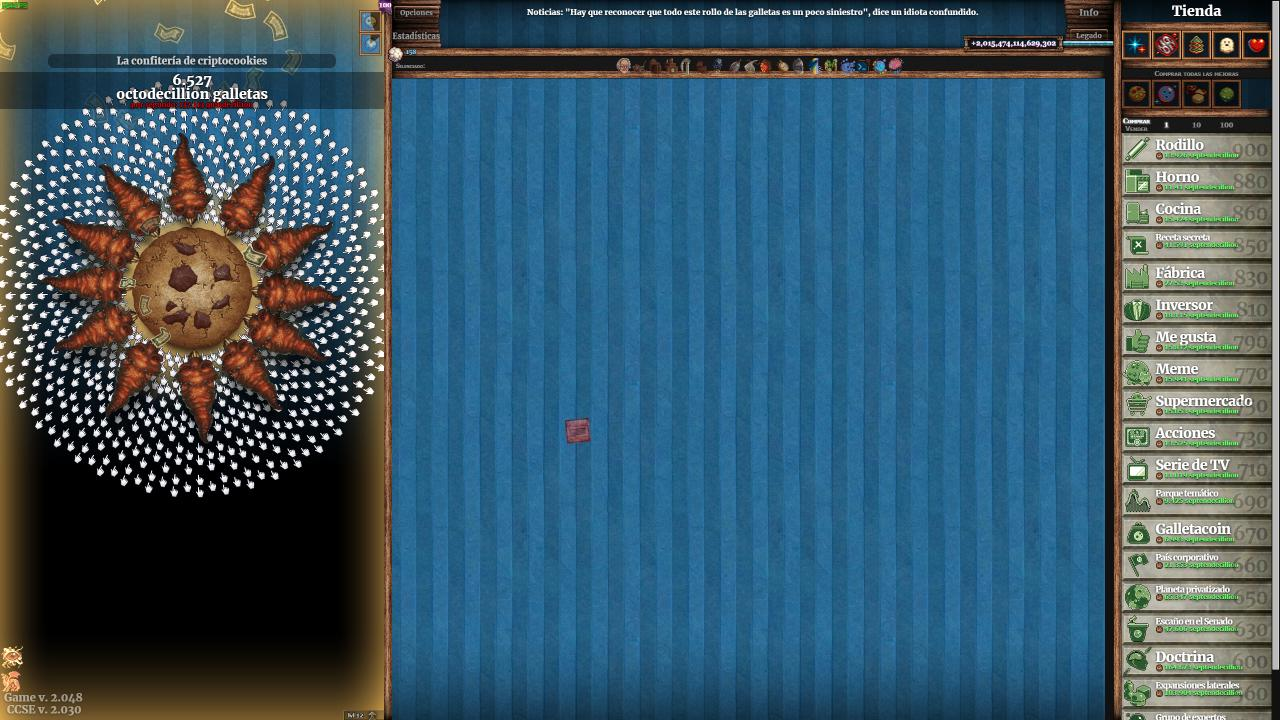RedCartridge: (565, 416, 592, 446)
